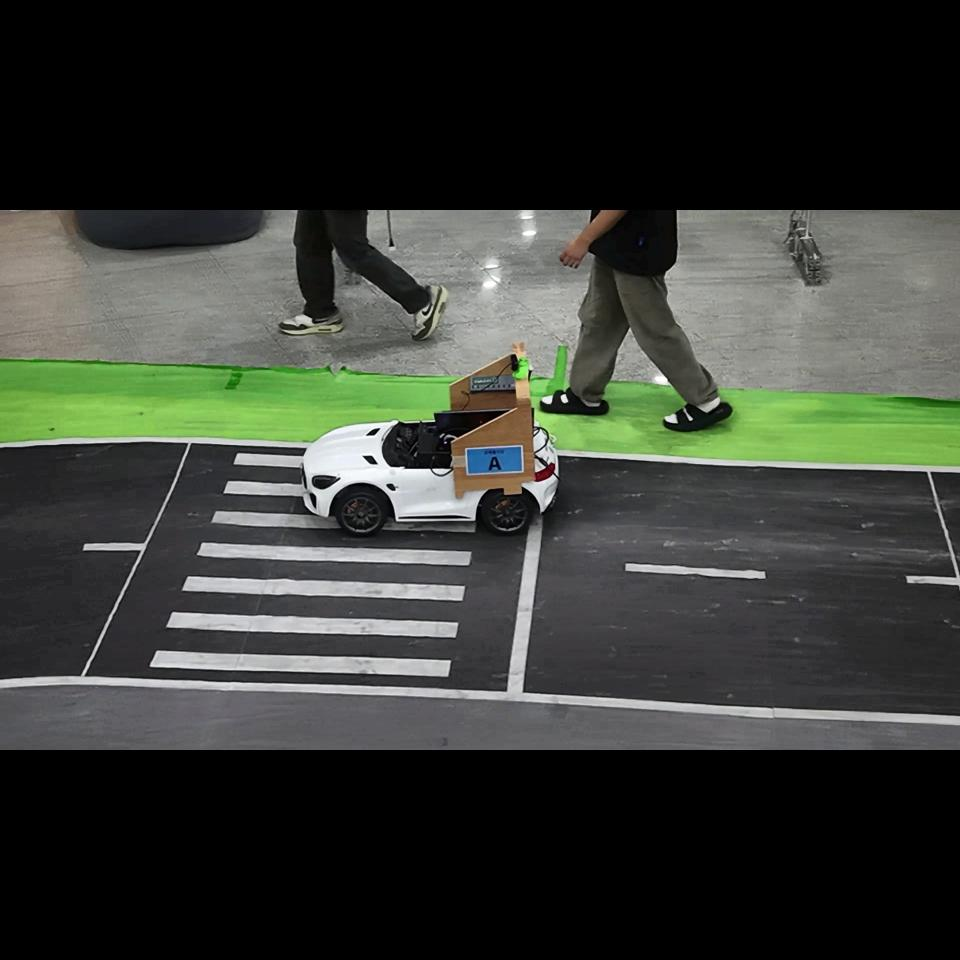broken_line: (625, 563, 766, 579), (906, 575, 960, 586), (82, 542, 143, 551)
crosswalk: (149, 453, 476, 677)
